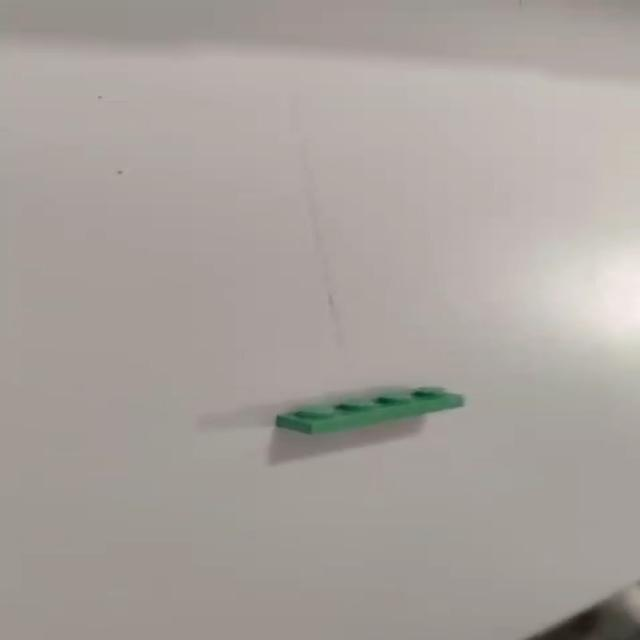C4x1x0: (270, 378, 481, 443)
